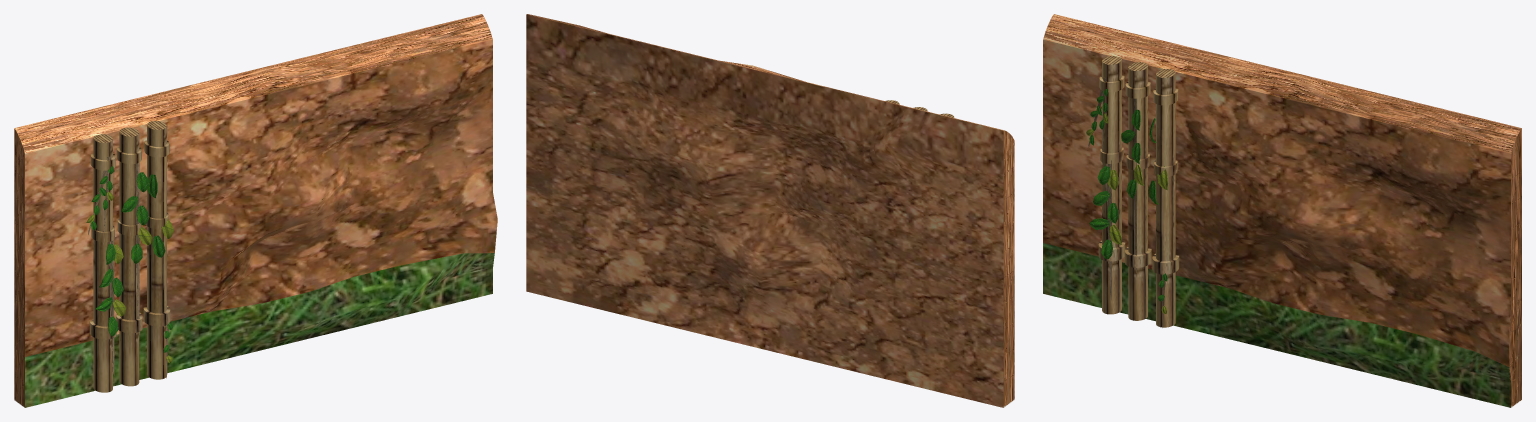
Rendered from wall1.fbx.
3 views of the same model, side by side, from view 1: azimuth 30°, elevation 25°; view 2: azimuth 150°, elevation 25°; view 3: azimuth 330°, elevation 25° (orthographic).
Visible parts, largest first — view 1: pCube1, pCylinder2, pCylinder3, pCylinder4, VEHICLEMAYBE:pPlane3; view 2: pCube1; view 3: pCube1, pCylinder2, pCylinder3, pCylinder4.
Boxes of the visible parts, x1,y1,x2,y2 form: pCube1: [14, 14, 497, 407]; pCylinder2: [143, 121, 170, 379]; pCylinder3: [116, 127, 142, 386]; pCylinder4: [89, 134, 116, 392]; VEHICLEMAYBE:pPlane3: [135, 162, 139, 334]; pCube1: [526, 14, 1014, 407]; pCube1: [1043, 14, 1521, 407]; pCylinder2: [1152, 69, 1179, 327]; pCylinder3: [1124, 62, 1151, 320]; pCylinder4: [1098, 55, 1125, 314].
Bounding box in the file's own units: 25.05 × 13.88 × 2.94.
6 materials, 6 textured.
